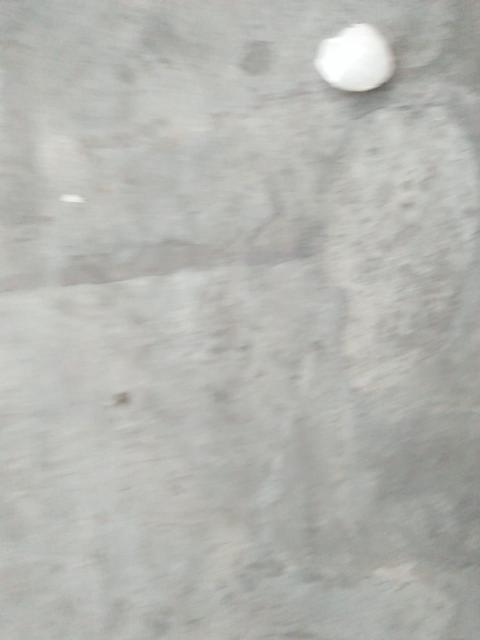Roto: (313, 22, 396, 92)
